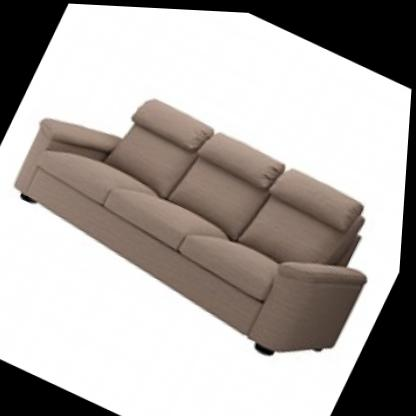Sofa: (0, 41, 414, 387)
